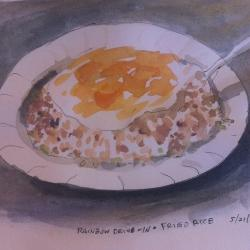rice: (20, 49, 220, 165)
